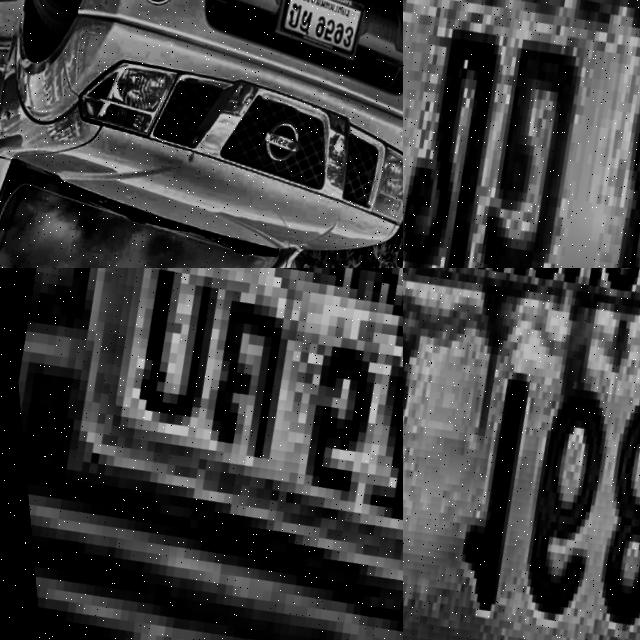license-plate: (0, 268, 403, 640), (403, 268, 640, 640), (403, 0, 640, 268), (256, 0, 370, 79)
